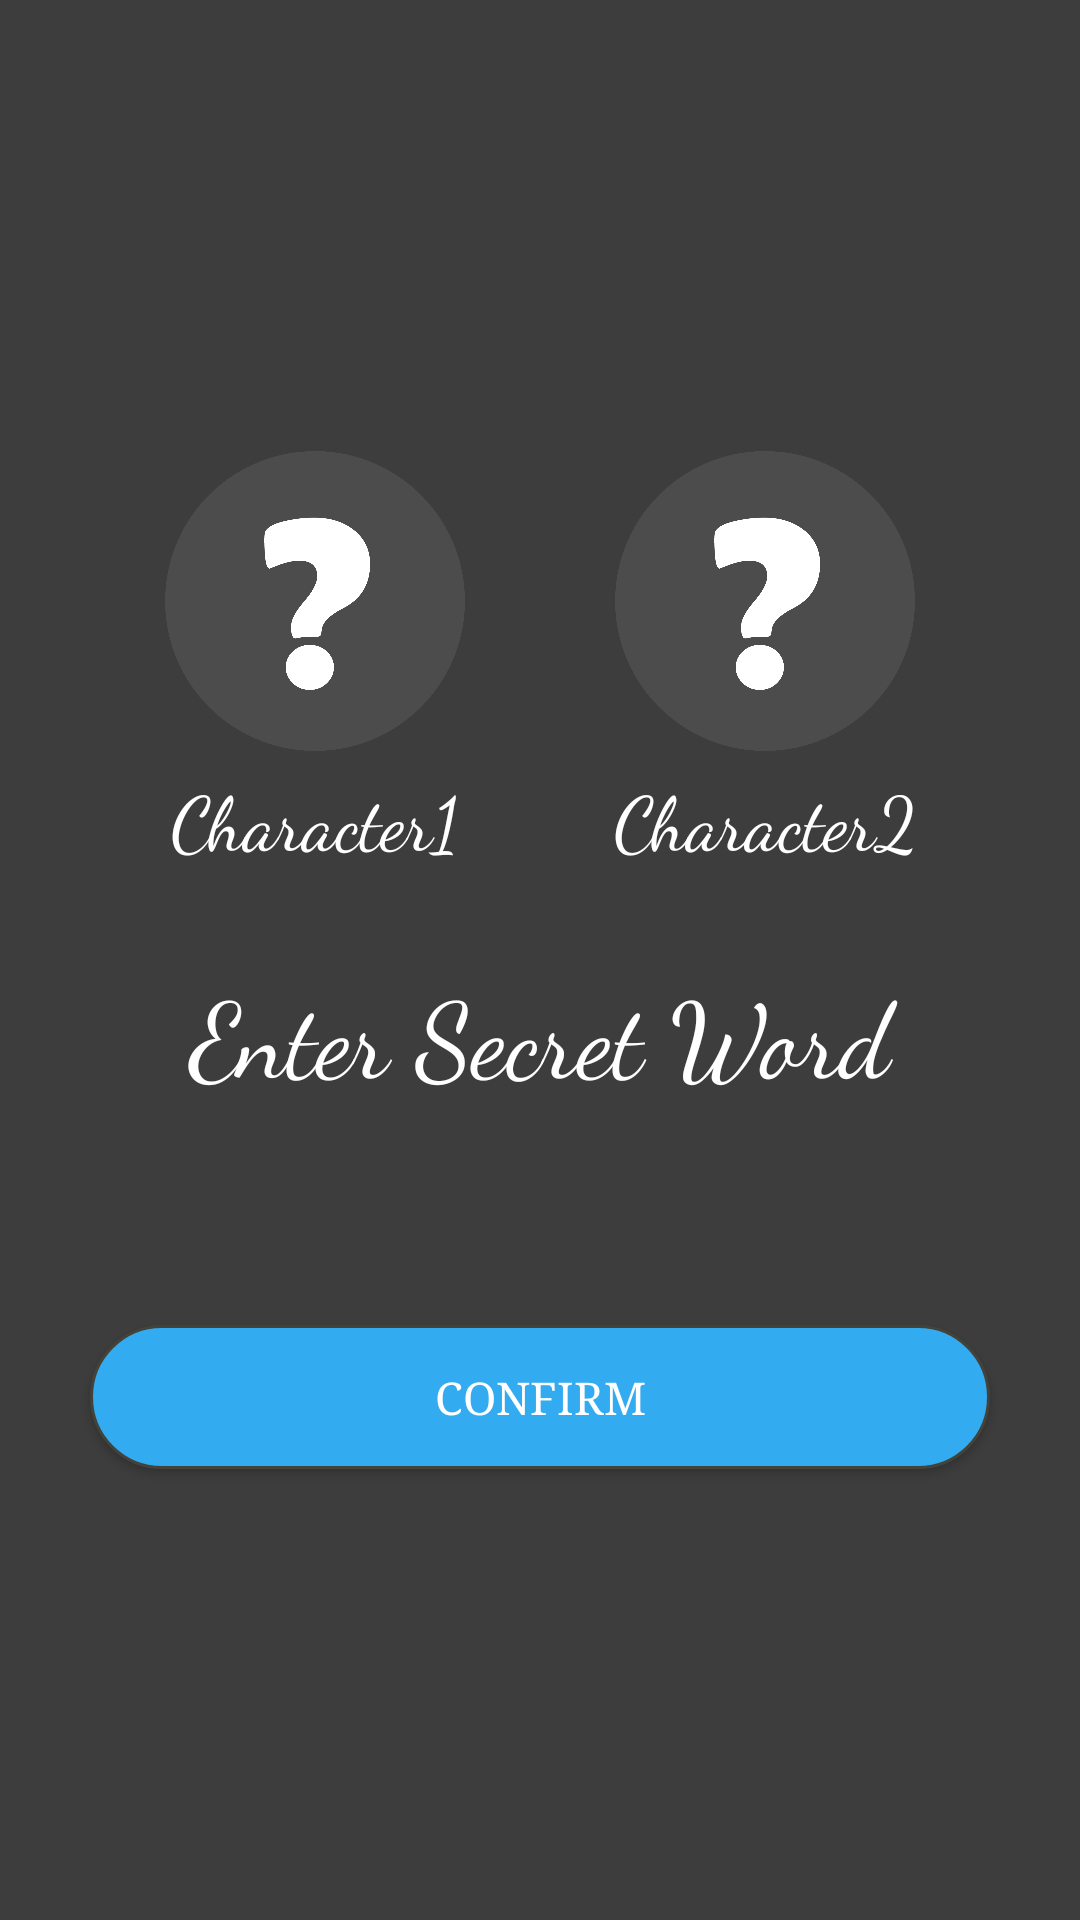

Icons on this 1080 × 1920 Android screen, each with the point to tap as [x,y]:
unknowncharacter: [317,603], [767,603]
